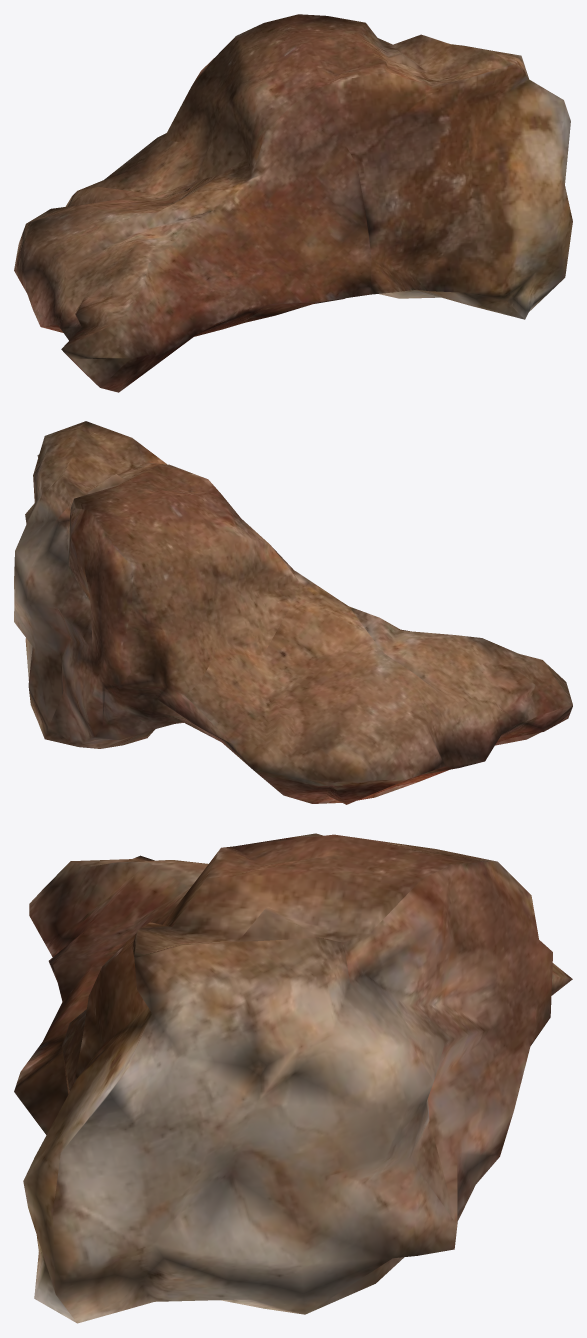
File: stone_01.glb
3 views of the same model, one above another, from view 1: azimuth 30°, elevation 25°; view 2: azimuth 150°, elevation 25°; view 3: azimuth 270°, elevation 25° (orthographic). The views are drawn at different scales.
Visible parts, largest first — view 1: stone_01; view 2: stone_01; view 3: stone_01.
Boxes of the visible parts, left/top/right/bottom form: stone_01: left=14, top=14, right=572, bottom=392; stone_01: left=14, top=421, right=572, bottom=804; stone_01: left=14, top=833, right=572, bottom=1323.
Size of the model in its own units: 0.1462 by 0.0704 by 0.0886.
1 material, 1 textured.
